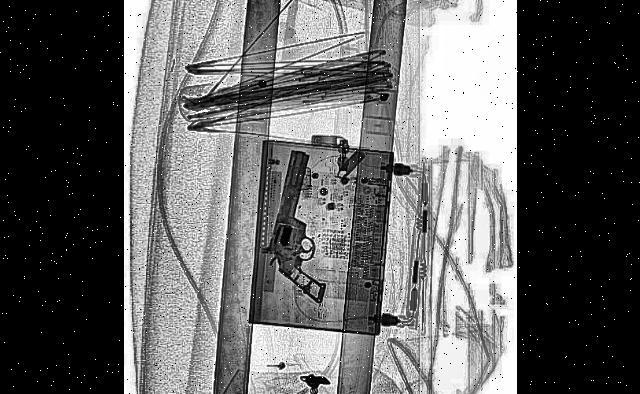Gun: (262, 142, 348, 308)
